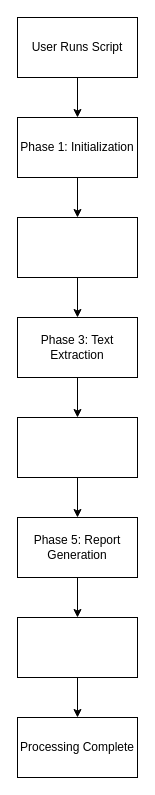
Image size: 155x795. Some labels were removed from this diagram. The centre of each missing label's shape, as x and y in pixels:
"Phase 2: PDF Download" belongs at (x=77, y=247).
"Phase 4: AI Analysis" belongs at (x=77, y=447).
"Phase 6: Notification" belongs at (x=77, y=647).
